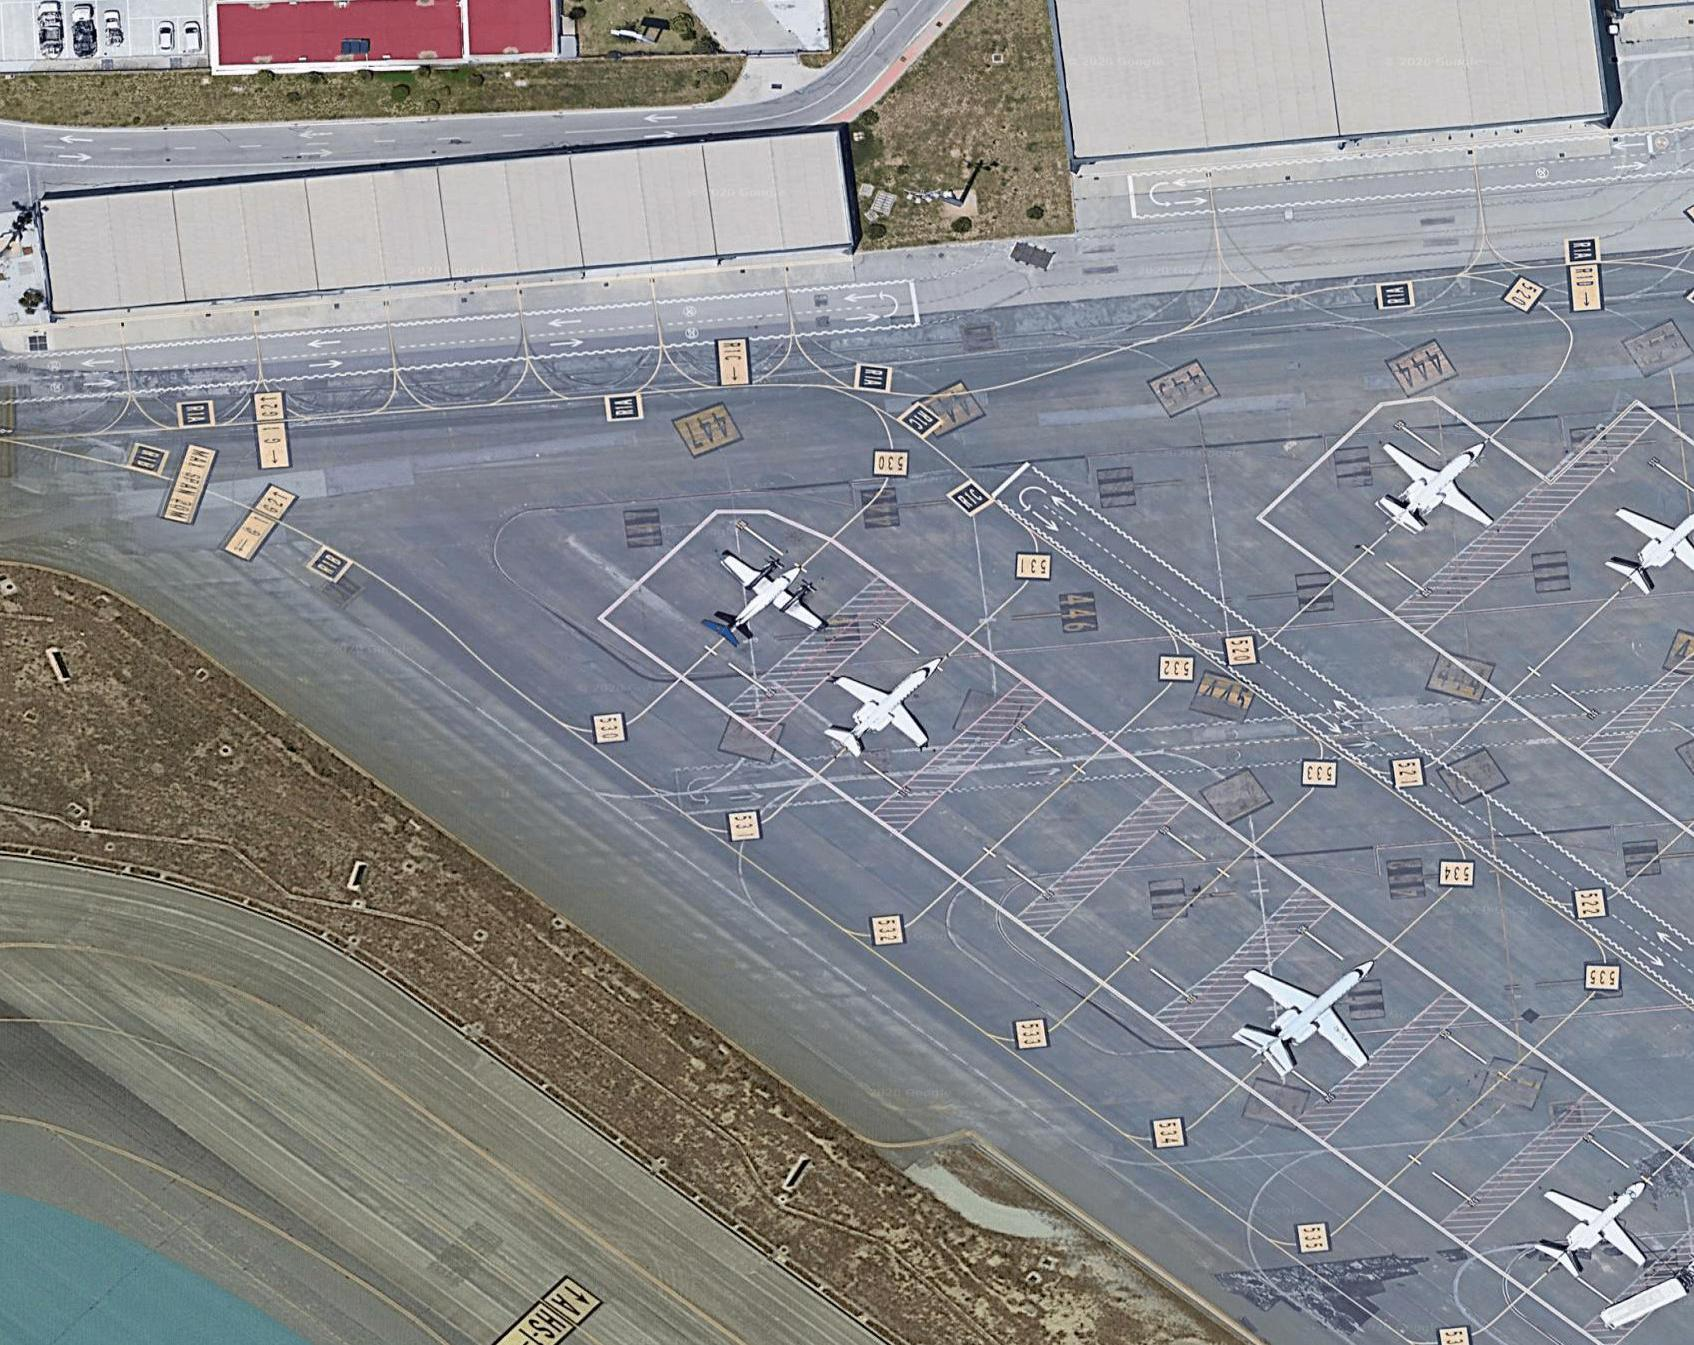plane: (1211, 910, 1413, 1113), (676, 502, 850, 675), (1352, 407, 1518, 572), (804, 624, 967, 787), (1515, 1146, 1672, 1291), (1603, 492, 1694, 606)
